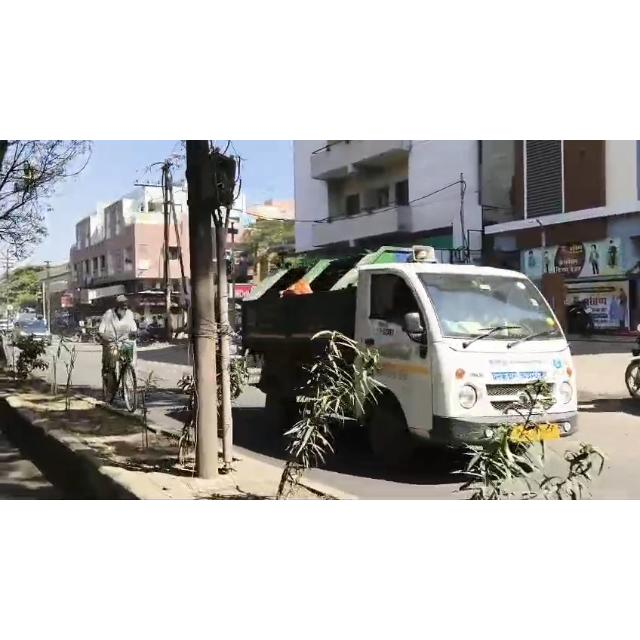car: (9, 318, 63, 359)
